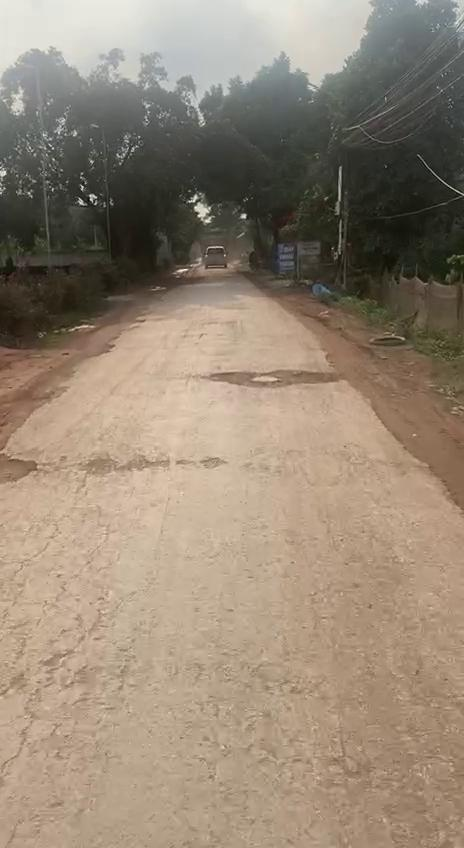pothole: (208, 364, 340, 395), (0, 440, 48, 489)
